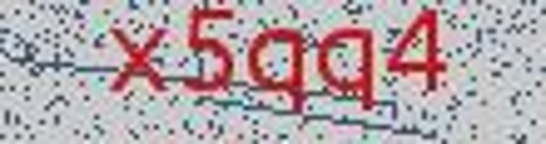4: (384, 2, 457, 99)
5: (182, 4, 242, 103)
q: (245, 19, 311, 126), (315, 22, 384, 122)
x: (99, 16, 170, 102)
